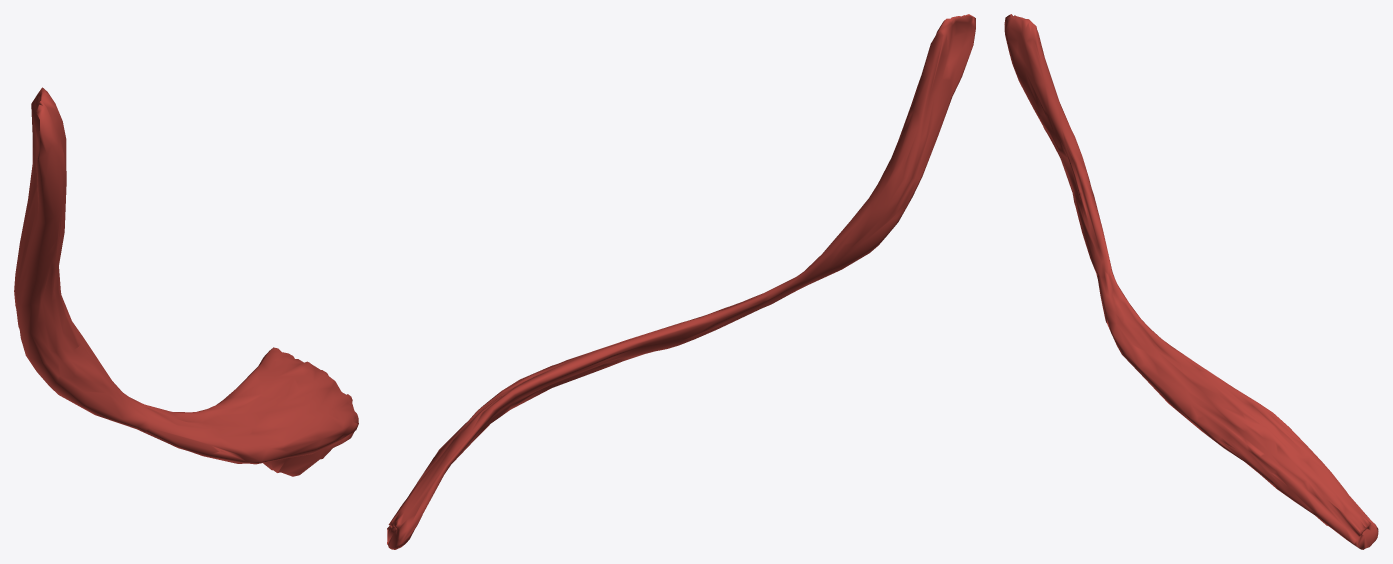
Rendered from musculos-omohyoid-muscle-l.glb.
The picture shows the model from 3 angles, left to right: view 1: azimuth 30°, elevation 25°; view 2: azimuth 150°, elevation 25°; view 3: azimuth 270°, elevation 25°; orthographic projection. The views are drawn at different scales.
Visible parts, largest first — view 1: Omohyoid muscle.l; view 2: Omohyoid muscle.l; view 3: Omohyoid muscle.l.
Boxes of the visible parts, box(x1,y1,x2,y2) form: Omohyoid muscle.l: box(14, 87, 358, 476); Omohyoid muscle.l: box(387, 14, 975, 549); Omohyoid muscle.l: box(1004, 14, 1378, 549).
Bounding box in the file's own units: 0.0907 × 0.1065 × 0.0935.
